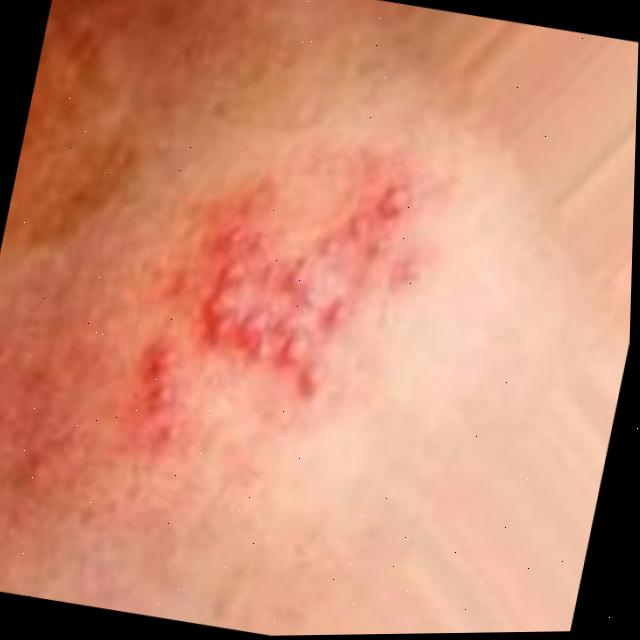Shingles: (110, 137, 425, 490)
